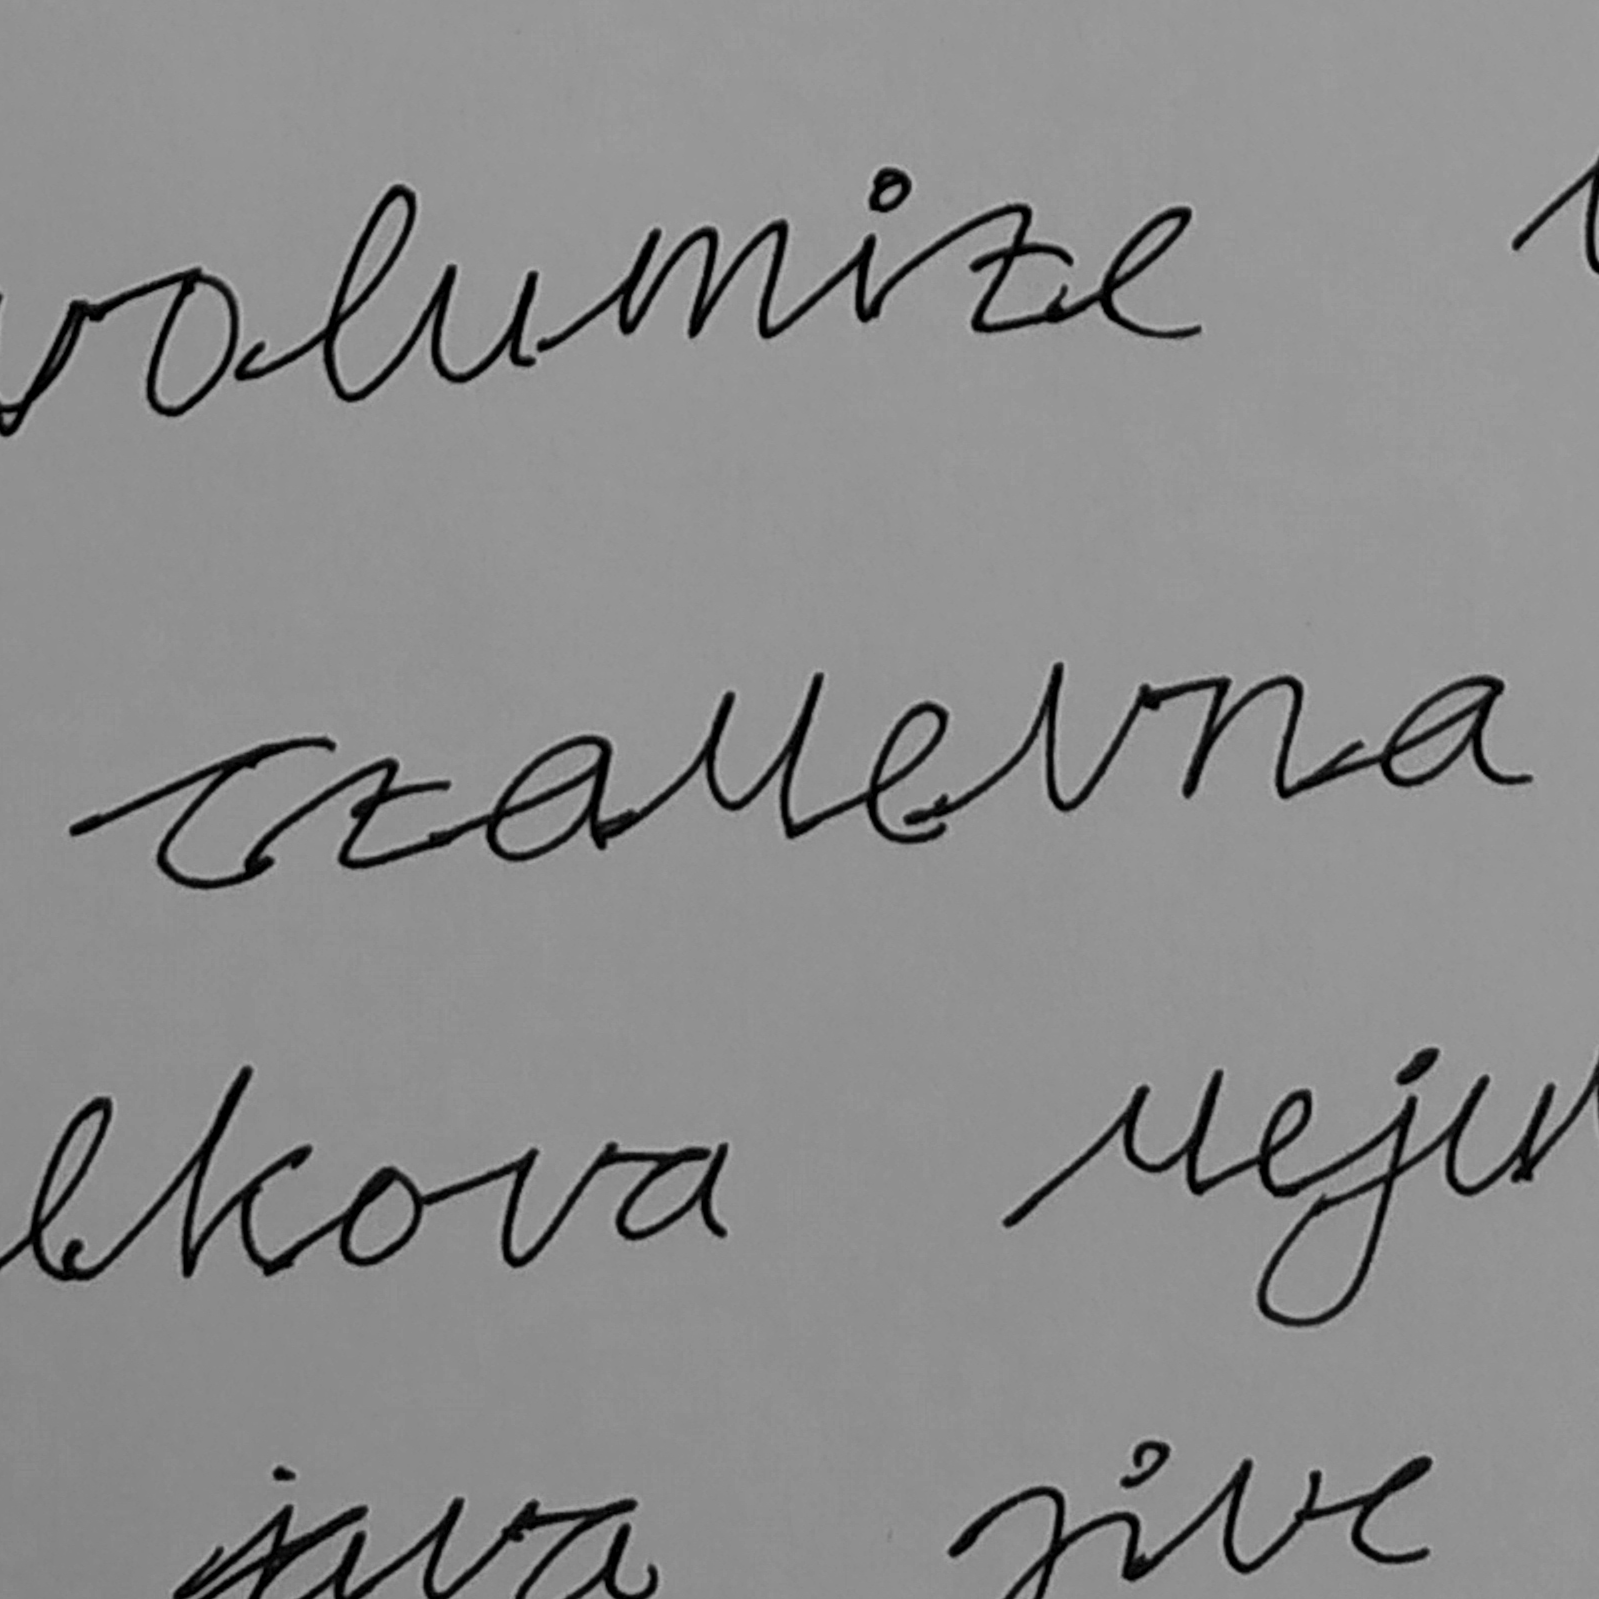a: (1372, 668, 1540, 794), (480, 728, 616, 868)
c: (149, 731, 338, 895)
e: (861, 696, 962, 854)
n: (1174, 665, 1311, 810)
r: (685, 666, 832, 848)
v: (1032, 655, 1152, 816)
z: (338, 753, 458, 883)
